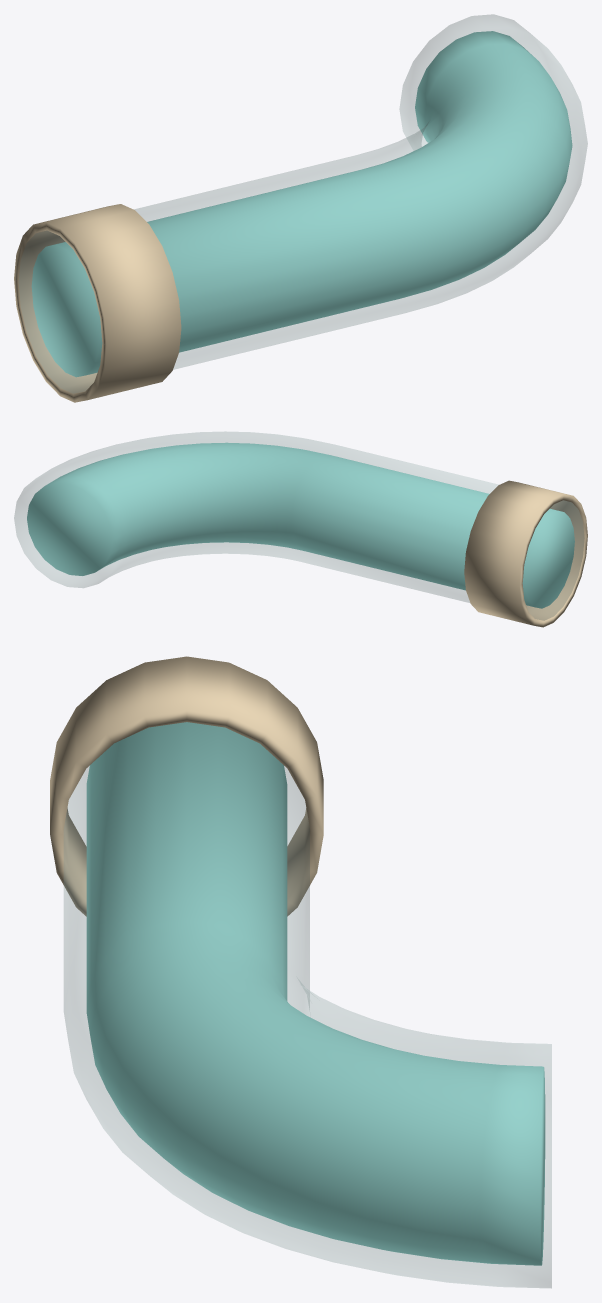
File: Floor_Tube_Elbow_R080.glb
The picture shows the model from 3 angles, top to bottom: view 1: azimuth 30°, elevation 25°; view 2: azimuth 150°, elevation 25°; view 3: azimuth 270°, elevation 25°; orthographic projection. The views are drawn at different scales.
Visible parts, largest first — view 1: Glass, Goo, Sleeves; view 2: Glass, Goo, Sleeves; view 3: Glass, Goo, Sleeves.
Part boxes in pixels (x1,y1,x2,y2): Glass: (19,14,587,393); Goo: (31,31,572,377); Sleeves: (14,204,181,402); Glass: (14,431,584,620); Goo: (27,442,574,608); Sleeves: (464,480,587,627); Glass: (64,722,551,1288); Goo: (86,722,545,1265); Sleeves: (50,656,323,916).
Bounding box in the file's own units: 2.27 × 0.6 × 1.1.
